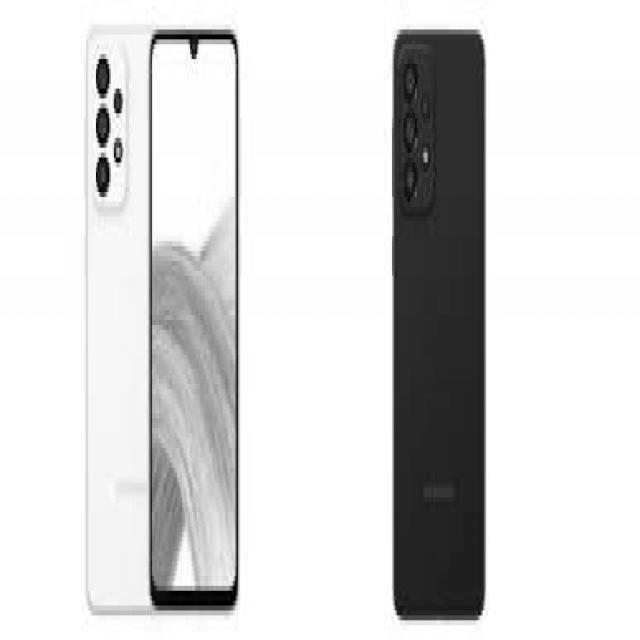fake: (387, 20, 485, 616)
